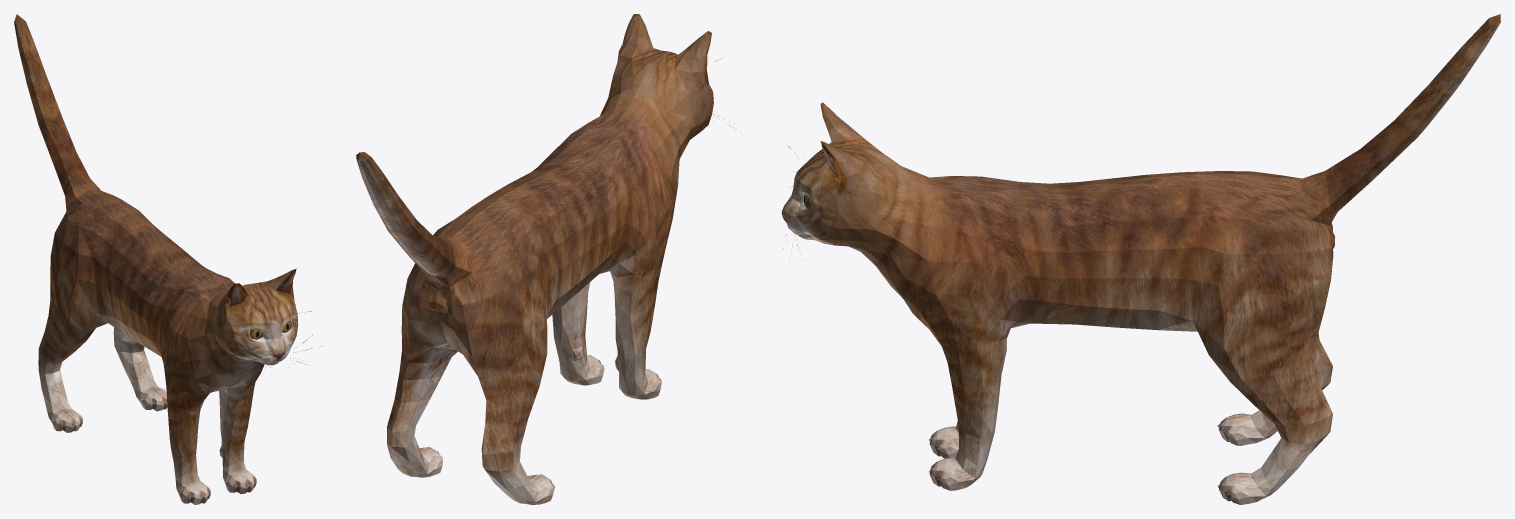
Rendered from cat.obj.
The picture shows the model from 3 angles, left to right: view 1: azimuth 30°, elevation 25°; view 2: azimuth 150°, elevation 25°; view 3: azimuth 270°, elevation 25°; orthographic projection. The views are drawn at different scales.
Visible parts, largest first — view 1: cat; view 2: cat; view 3: cat.
Boxes of the visible parts, bbox=[...] form: cat: bbox=[14, 14, 312, 504]; cat: bbox=[356, 14, 731, 504]; cat: bbox=[781, 14, 1500, 504].
Size of the model in its own units: 1.64 by 4.56 by 6.58.
